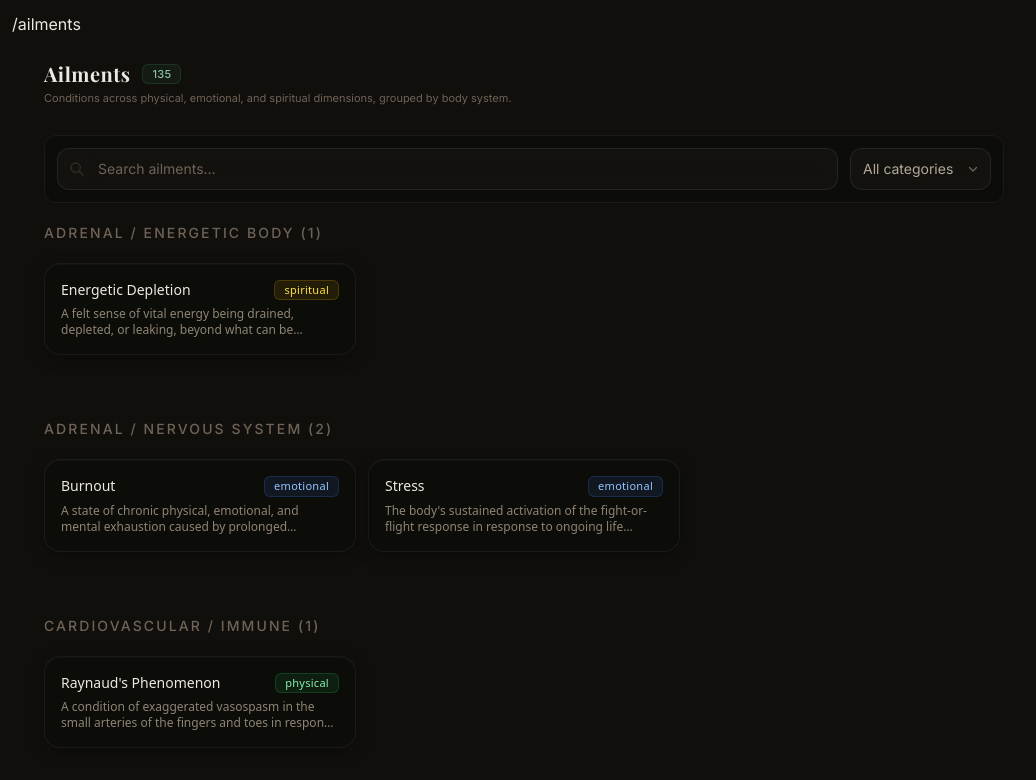
Scenario: AilmentNavigator — canonical catalog of ailments grouped by body system › selecting a category narrows results and syncs to URL
The image size is (1036, 780).
Expected: the heading "Ailments" is shown, 44,60 -> 130,88
Select "Emotional" in the dropdown named "category": (920,168) 850,148 -> 991,190
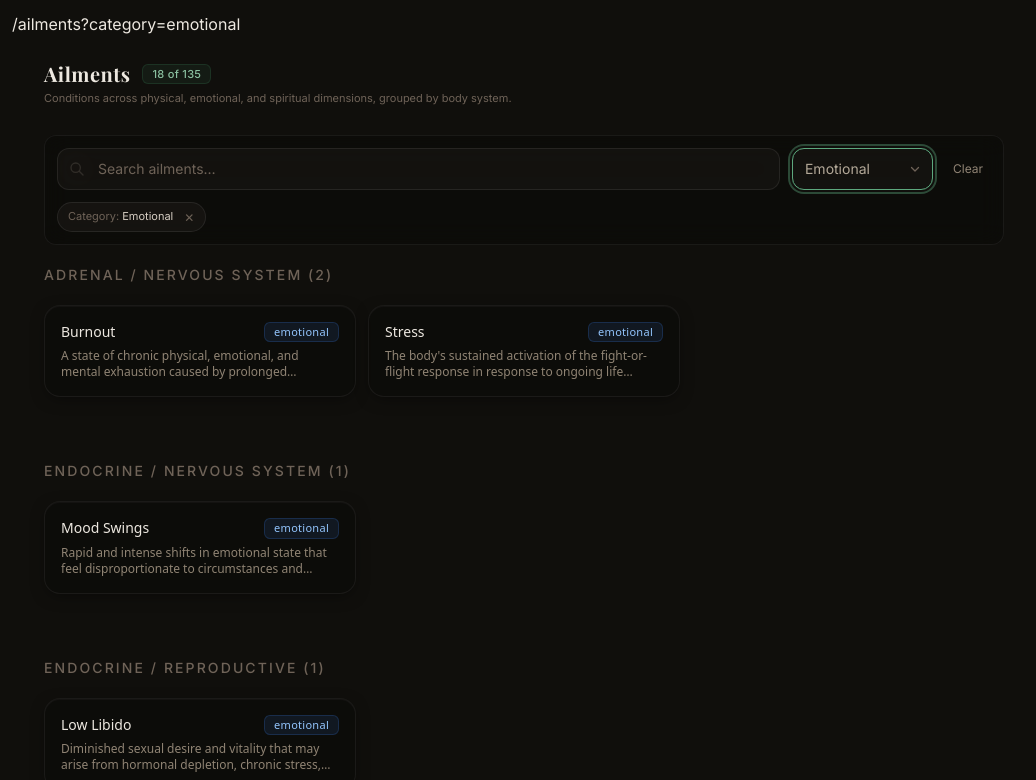
Now the text with test id "location-probe" shows "category=emotional", box 12,14 -> 240,34
